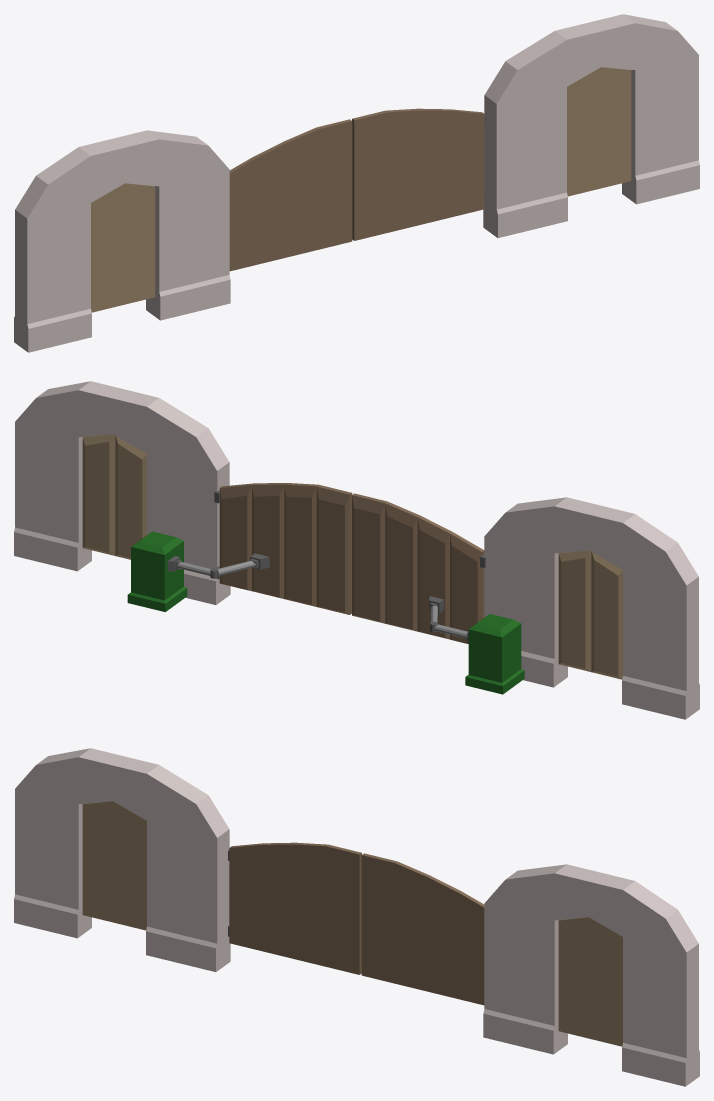
The model's file is Gate.fbx.
The picture shows the model from 3 angles, top to bottom: view 1: azimuth 30°, elevation 25°; view 2: azimuth 150°, elevation 25°; view 3: azimuth 330°, elevation 25°; orthographic projection.
Parts seen in each view (by area): view 1: Gate; view 2: Gate; view 3: Gate.
Boxes of the visible parts, x1,y1,x2,y2 form: Gate: (14, 14, 699, 352); Gate: (14, 381, 699, 719); Gate: (14, 748, 699, 1086).
Size of the model in its own units: 7.28 by 1.87 by 0.9164.
